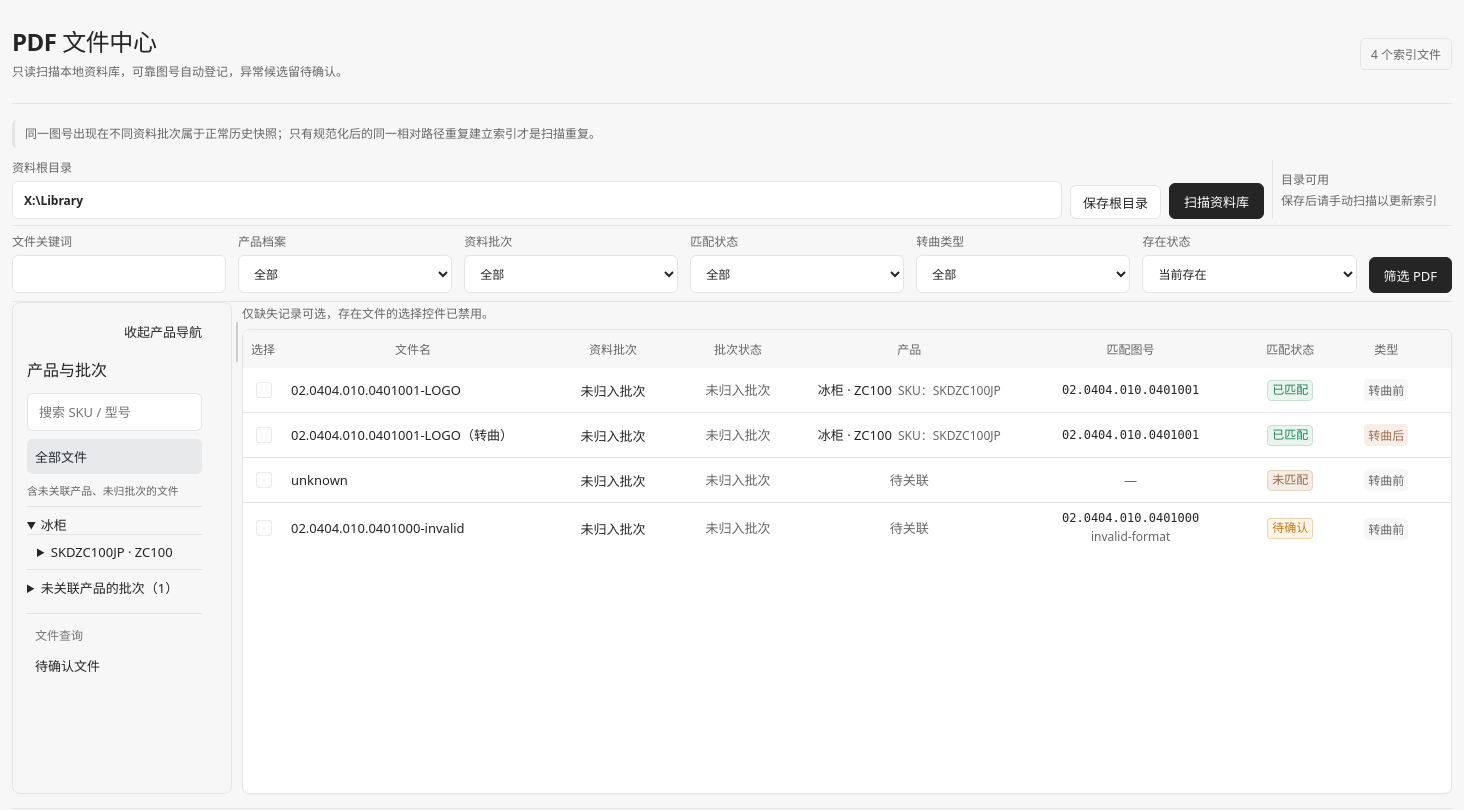
it: FilesPage › keeps a file-location failure visible inside the file detail drawer
The width and height of the screenshot is (1464, 810).
What coordinates should you click on to do the following:
click the button "02.0404.010.0401001-LOGO"
I would click on:
 (376, 390)
Its box is [291, 380, 461, 400].
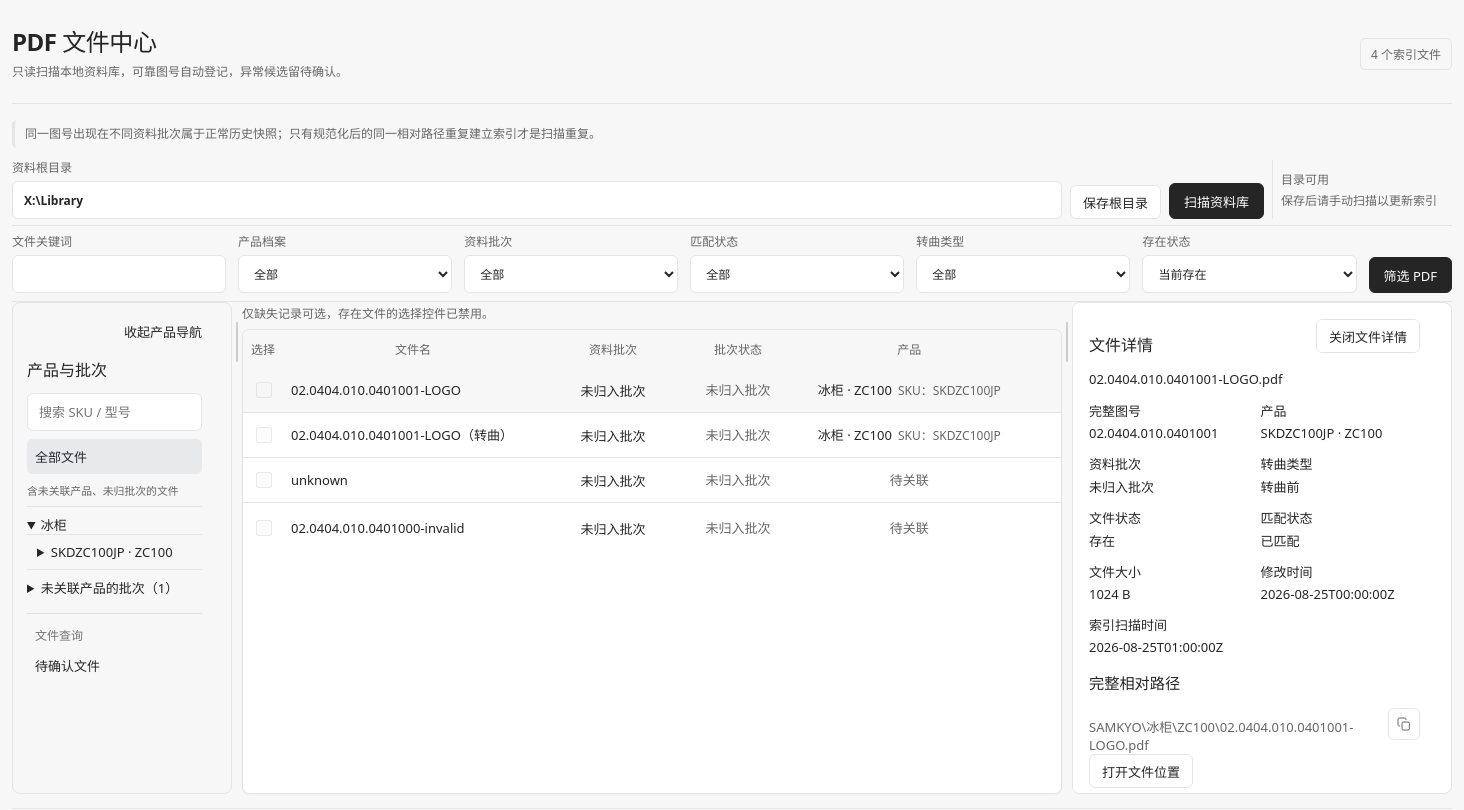
What coordinates should you click on to do the following:
click the button "打开文件位置"
I would click on:
 (1141, 771)
Its box is [1089, 754, 1193, 788].
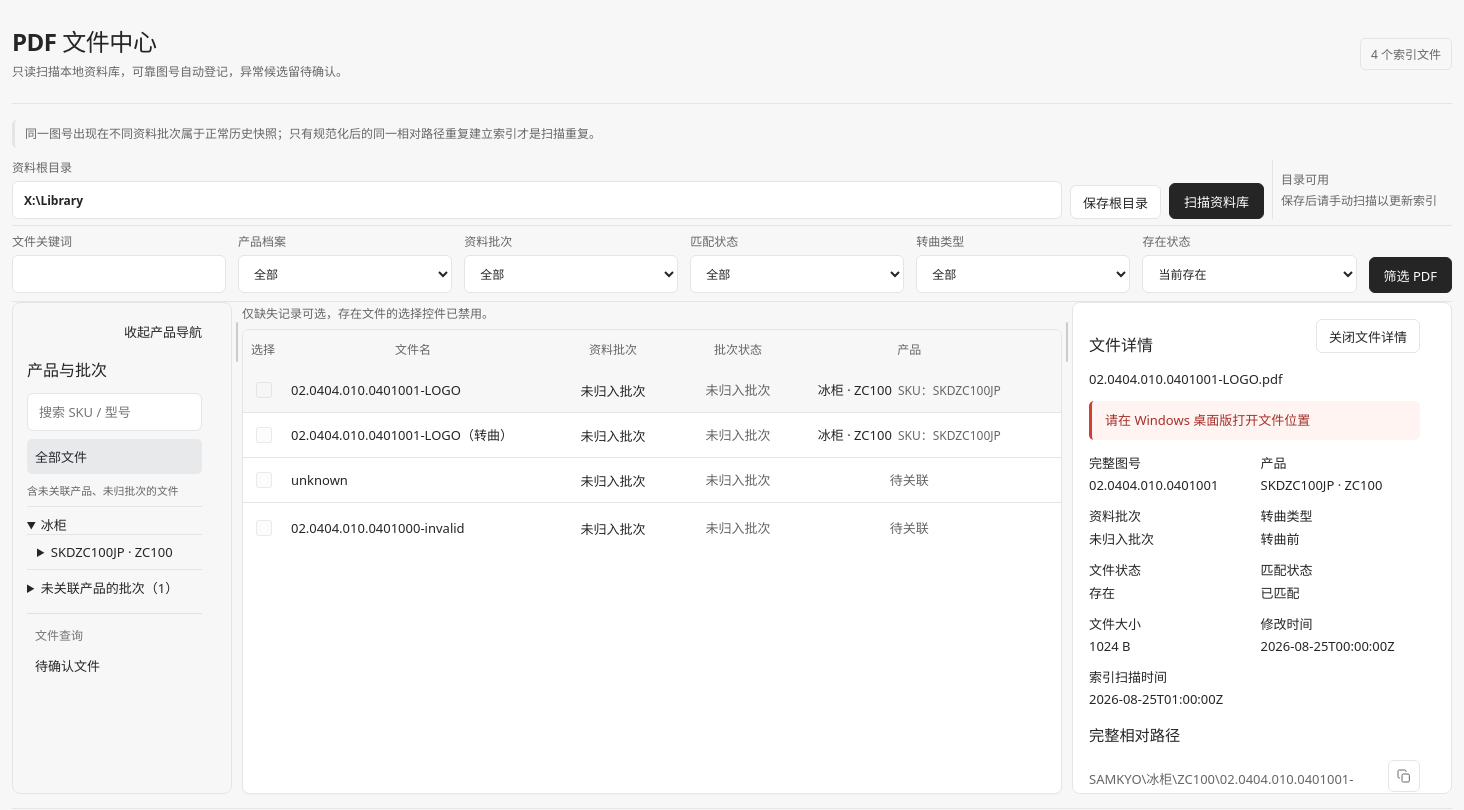
Result: the message reads "请在 Windows 桌面版打开文件位置" at [1105, 410, 1310, 428]
